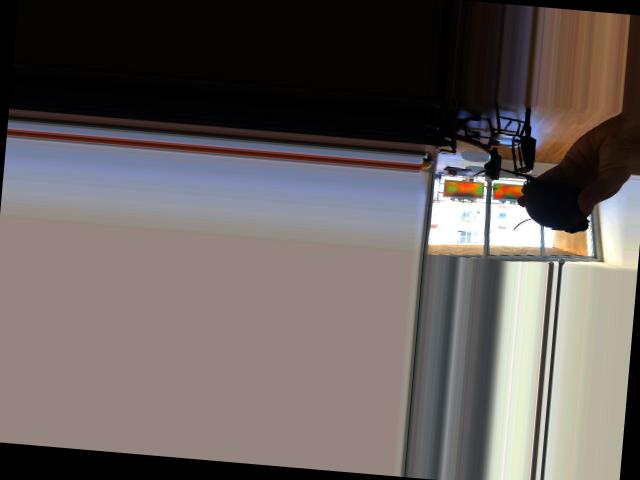beet: (468, 166, 592, 235)
